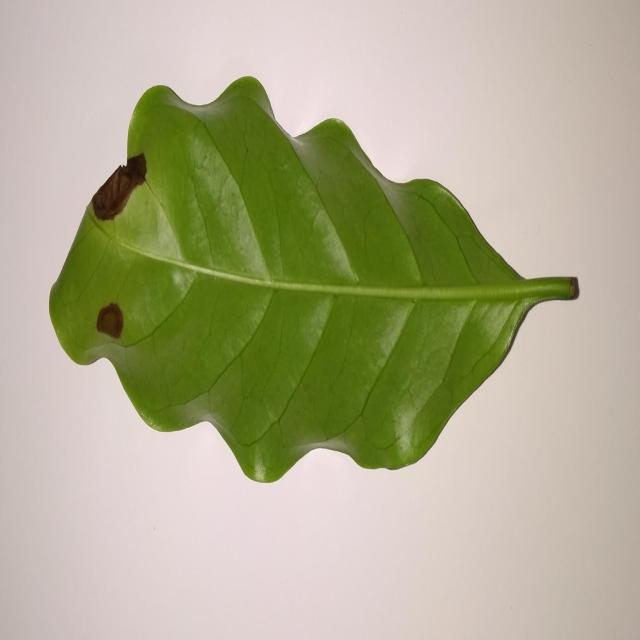phoma: (91, 152, 146, 219), (96, 302, 124, 339)
